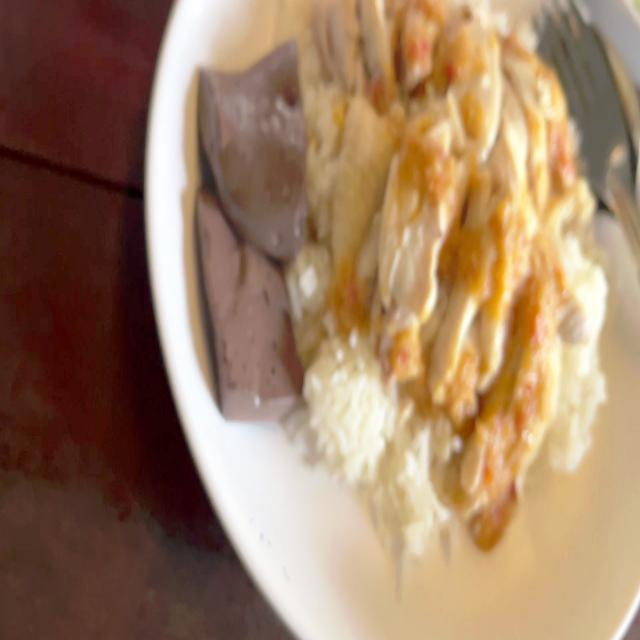boiled_chicken: (314, 0, 557, 422)
boiled_chicken_blood_jelly: (188, 191, 299, 421), (194, 42, 306, 260)
chicken_rice: (197, 4, 612, 562)
